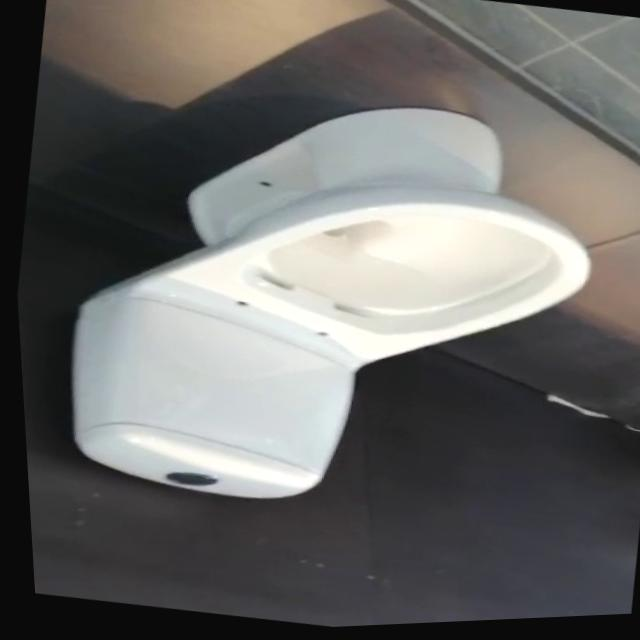toilet: (35, 55, 623, 558)
